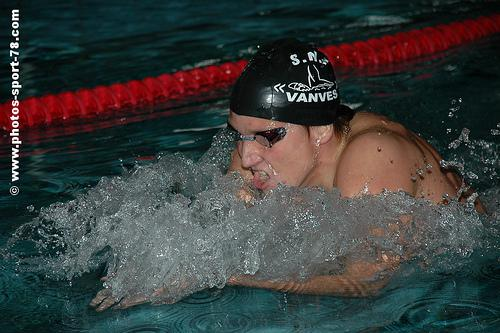swimmer: (180, 34, 494, 300)
